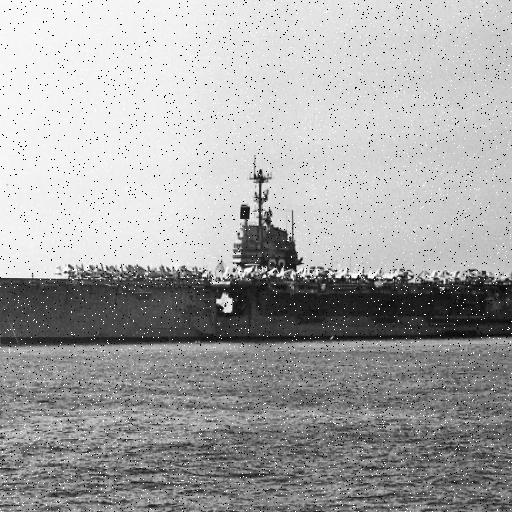Portanaves: (1, 147, 512, 351)
